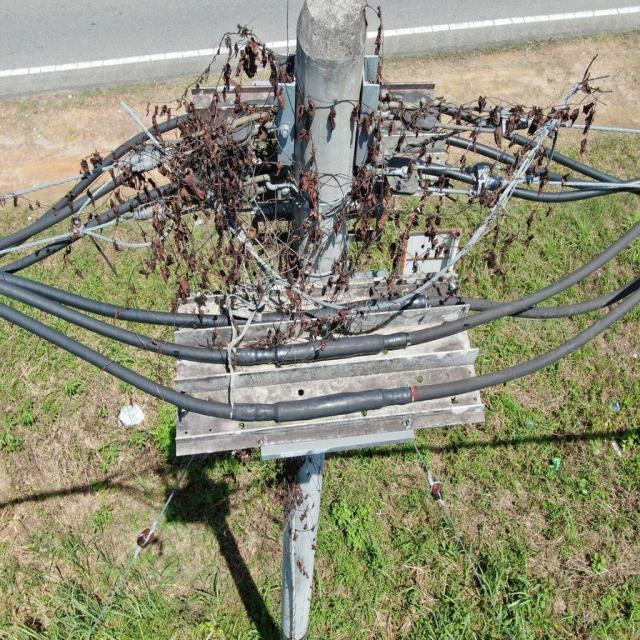critical vegetation: (63, 22, 618, 356)
